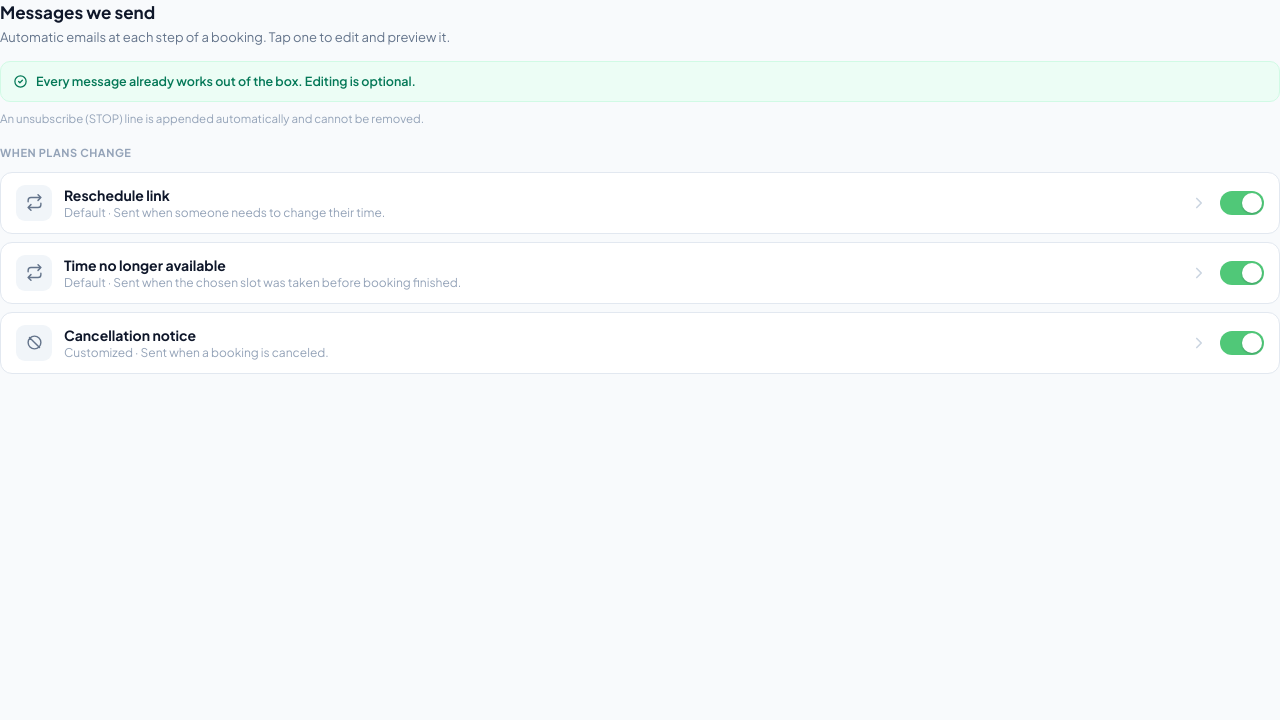
Test: NotificationTemplatesEditor (E14) — message list › closing the editor (✕) removes the dialog
Expected: the text "Reschedule link" is shown, [64,186,170,204]
Step 1. Click the button "Reschedule link" → (34, 202), box [16,184,1208,220]
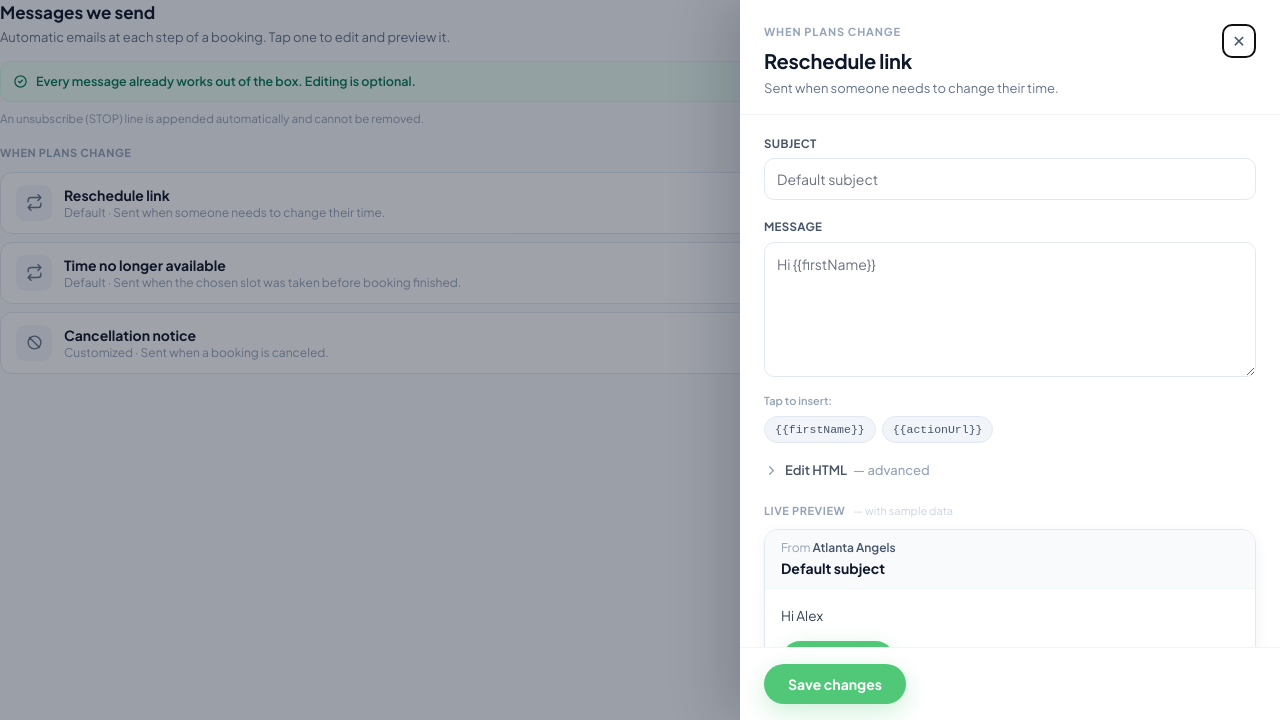
Step 2. Click the button named "close editor" → (1239, 41), box [1222,24,1256,58]
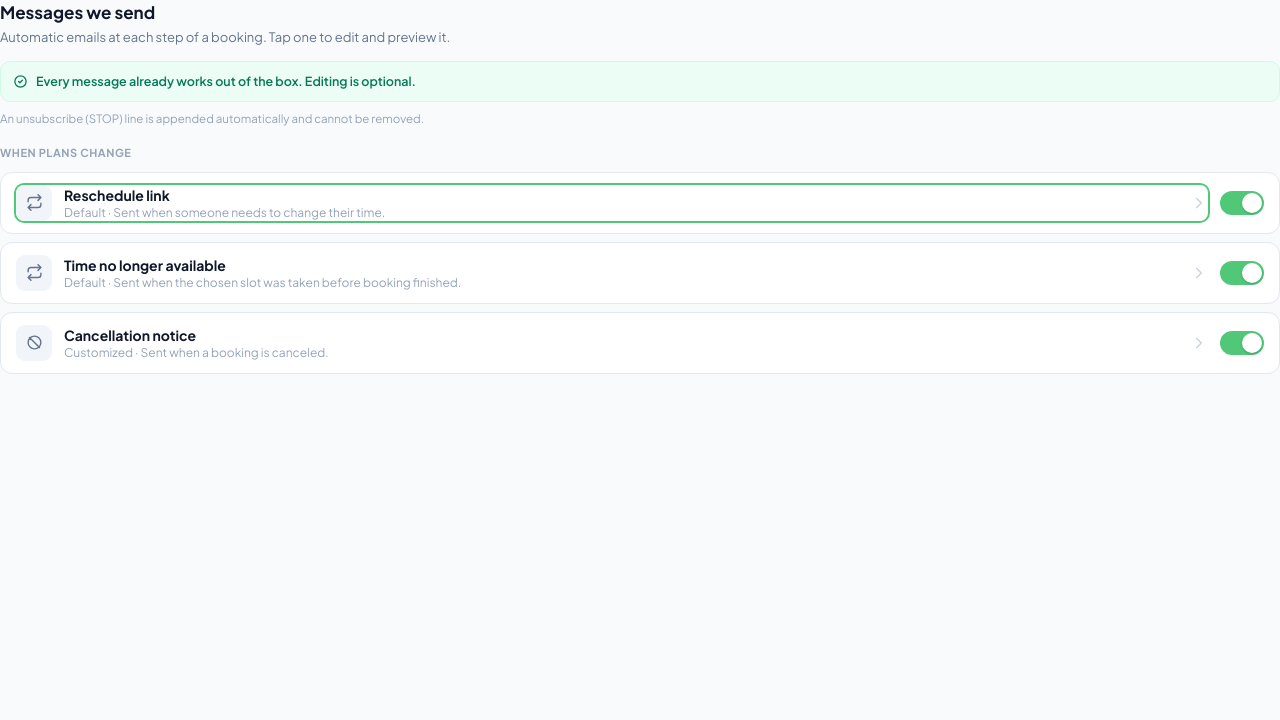
Result: the dialog is gone
